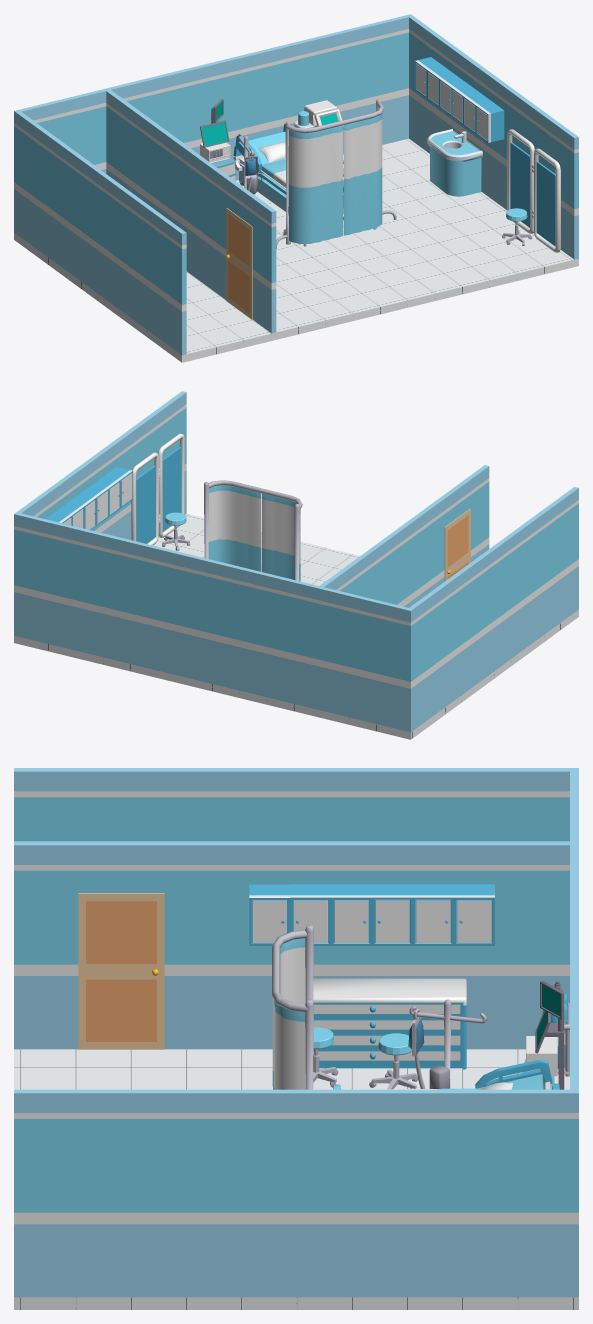
Rendered from Labour_Room.fbx.
3 views of the same model, one above another, from view 1: azimuth 30°, elevation 25°; view 2: azimuth 150°, elevation 25°; view 3: azimuth 270°, elevation 25° (orthographic). The views are drawn at different scales.
Parts seen in each view (by area): view 1: Floor_01_1, Wall_01_1, Wall_01_2, Wall_01_3, Wall_01_4, pCube14, pasted__Curtain1, Shelf_01_8, pasted__Bed1, Door_01_1, Shelf_01_5, Surgical_M2 (+6 smaller); view 2: Wall_01_1, Wall_01_2, Wall_01_3, pCube14, Floor_01_1, Wall_01_4, pasted__Curtain1, Door_01_1, Shelf_01_5, Shelf_01_6, pasted___saascascac9, Shelf_01_7 (+1 smaller); view 3: Wall_01_4, Wall_01_3, Wall_01_2, Floor_01_1, Door_01_1, Shelf_01_4, pCube14, Shelf_01_2, Shelf_01_3, Shelf_01_1, Wall_01_1, Surgical_M2 (+5 smaller).
Part boxes in pixels (x1,y1,x2,y2): Floor_01_1: (14,138,578,362); Wall_01_1: (19,14,412,180); Wall_01_2: (14,110,186,355); Wall_01_3: (104,88,276,333); Wall_01_4: (406,14,578,259); pCube14: (286,103,384,243); pasted__Curtain1: (507,129,560,252); Shelf_01_8: (427,129,482,196); pasted__Bed1: (233,123,343,220); Door_01_1: (226,208,252,319); Shelf_01_5: (463,92,504,142); Surgical_M2: (200,99,236,180); Wall_01_1: (14,512,408,730); Wall_01_2: (406,487,578,732); Wall_01_3: (316,465,489,709); pCube14: (208,480,302,581); Floor_01_1: (14,513,578,739); Wall_01_4: (14,391,186,614); pasted__Curtain1: (131,433,184,545); Door_01_1: (444,508,470,581); Shelf_01_5: (93,467,132,516); Shelf_01_6: (68,484,108,530); pasted___saascascac9: (204,481,299,580); Shelf_01_7: (45,502,84,528); Wall_01_4: (14,1089,578,1297); Wall_01_3: (14,841,578,1049); Wall_01_2: (14,768,578,841); Floor_01_1: (14,1049,578,1309); Door_01_1: (78,893,164,1049); Shelf_01_4: (313,978,466,1069); pCube14: (272,930,307,1089); Shelf_01_2: (331,884,412,945); Shelf_01_3: (413,884,494,945); Shelf_01_1: (249,884,331,945); Wall_01_1: (570,771,578,1297); Surgical_M2: (522,981,564,1089).
Size of the model in its own units: 5147 by 1603 by 3776.
Materials: 2 (2 with a texture image).
